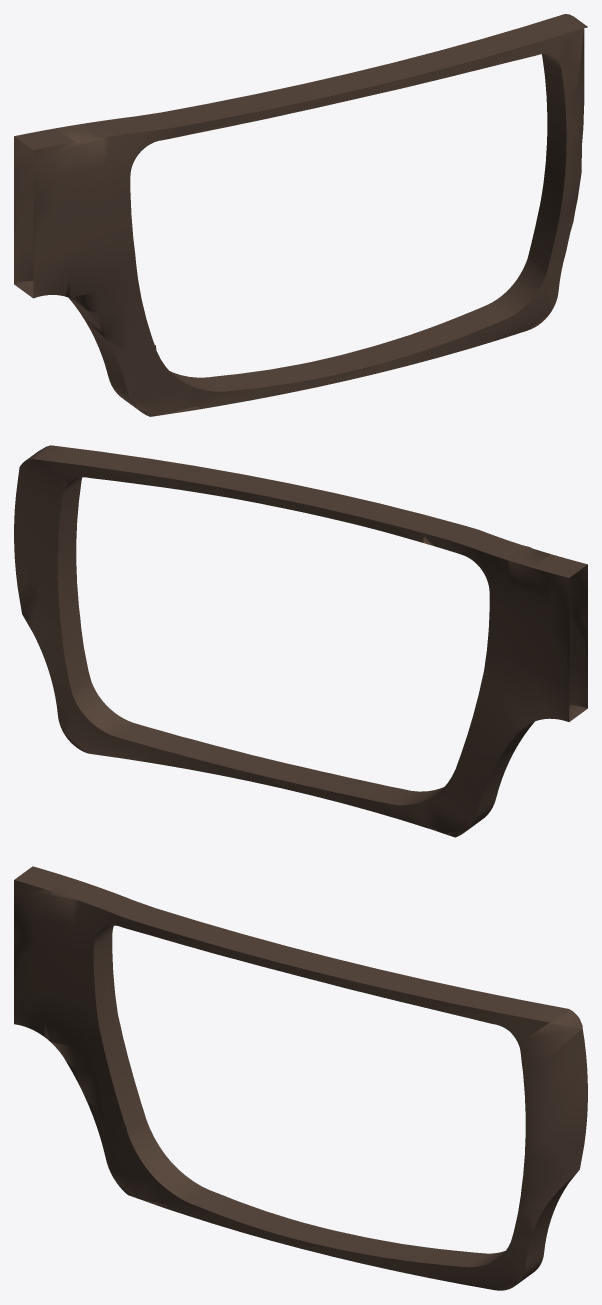
Rendered from original-8.obj.
3 views of the same model, one above another, from view 1: azimuth 30°, elevation 25°; view 2: azimuth 150°, elevation 25°; view 3: azimuth 330°, elevation 25° (orthographic). The views are drawn at different scales.
Visible parts, largest first — view 1: Group5/mesh5/mesh5-geometry#mesh5-geometry; view 2: Group5/mesh5/mesh5-geometry#mesh5-geometry; view 3: Group5/mesh5/mesh5-geometry#mesh5-geometry.
Part boxes in pixels (<box>): Group5/mesh5/mesh5-geometry#mesh5-geometry: <box>14,14,587,416</box>; Group5/mesh5/mesh5-geometry#mesh5-geometry: <box>14,445,587,837</box>; Group5/mesh5/mesh5-geometry#mesh5-geometry: <box>14,866,587,1290</box>.
Size of the model in its own units: 0.6177 by 0.3114 by 0.0646.
